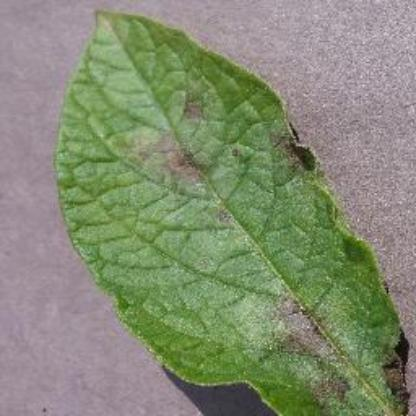Late-Blight: (50, 4, 410, 416)
